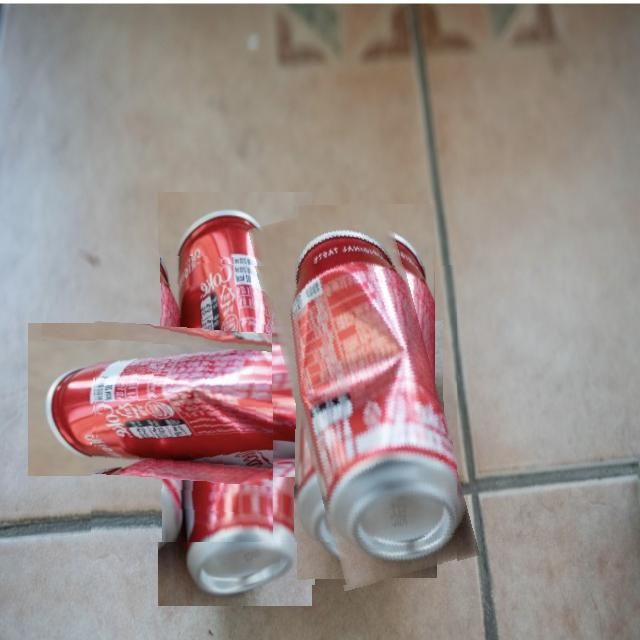recyclable: (92, 256, 378, 542), (271, 200, 457, 586)
